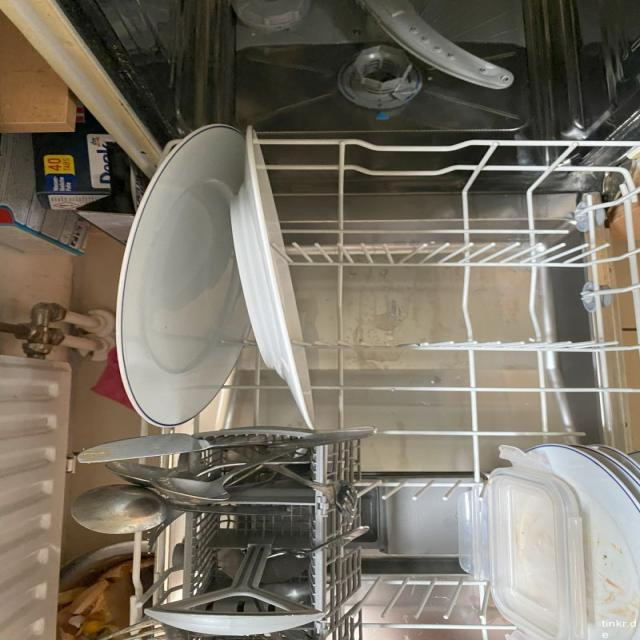clutery_bin: (114, 434, 338, 635)
empty_slot: (334, 148, 632, 423), (364, 437, 489, 640)
